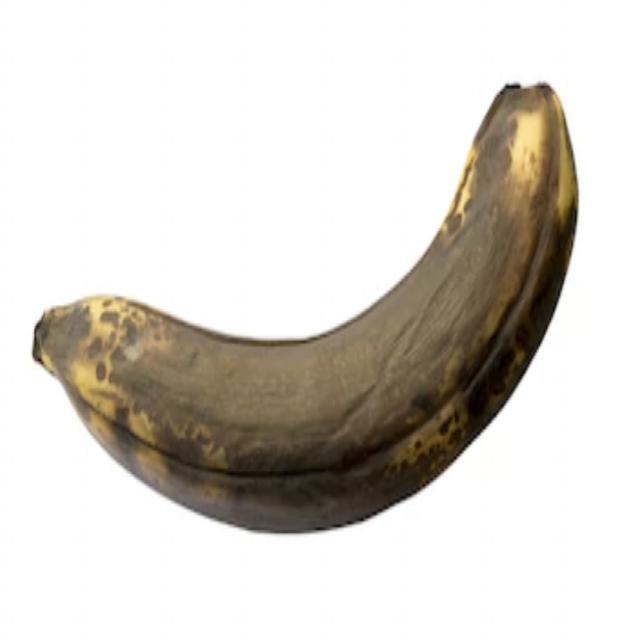rotten-banana: (45, 68, 576, 527)
